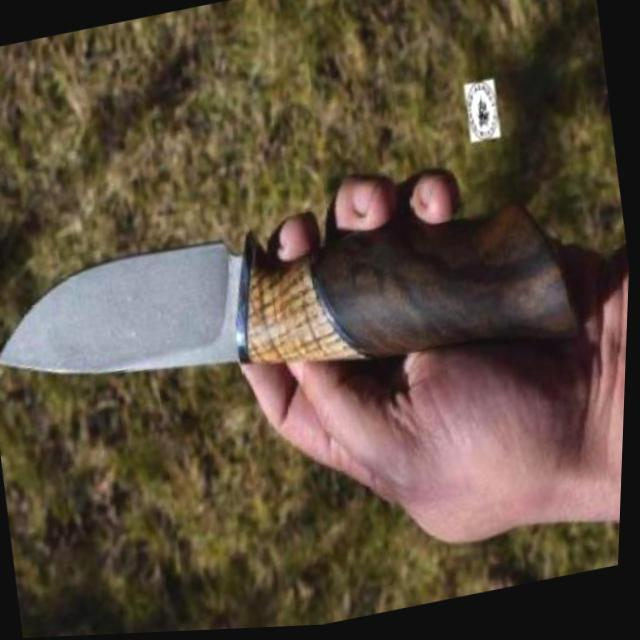knife: (0, 169, 588, 448)
